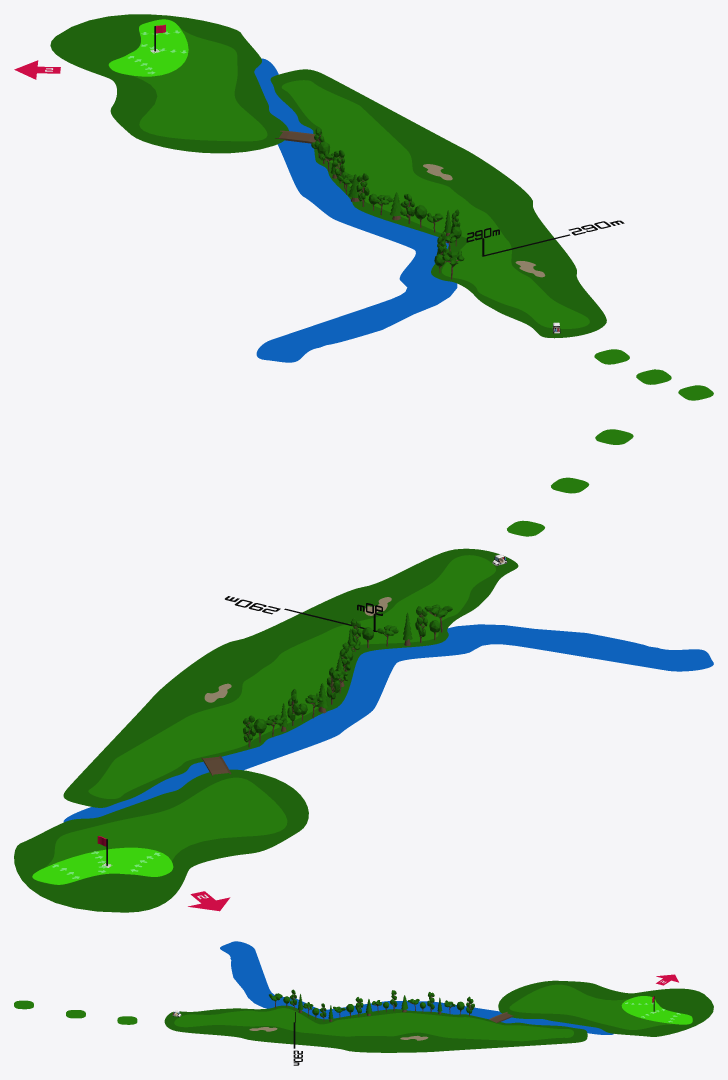
Rendered from hole1.gltf.
3 views of the same model, one above another, from view 1: azimuth 30°, elevation 25°; view 2: azimuth 150°, elevation 25°; view 3: azimuth 270°, elevation 25° (orthographic). The views are drawn at different scales.
Visible parts, largest first — view 1: Rough, Fairway, Water, Green; view 2: Rough, Fairway, Water, Green; view 3: Rough, Fairway, Water, Green.
Boxes of the visible parts, <box> form: Rough: <box>50,14,606,338</box>; Fairway: <box>132,28,589,328</box>; Water: <box>254,58,457,362</box>; Green: <box>108,19,188,76</box>; Rough: <box>14,548,518,912</box>; Fairway: <box>38,555,495,884</box>; Water: <box>63,624,713,822</box>; Green: <box>32,847,173,884</box>; Rough: <box>164,980,713,1052</box>; Fairway: <box>174,984,692,1041</box>; Water: <box>220,941,613,1034</box>; Green: <box>621,996,692,1024</box>.
Size of the model in its own units: 117 by 9.83 by 279.
